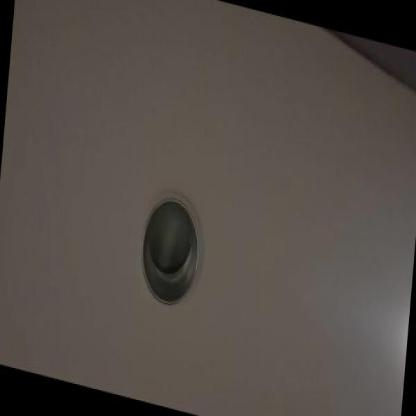light_off: (121, 147, 218, 336)
